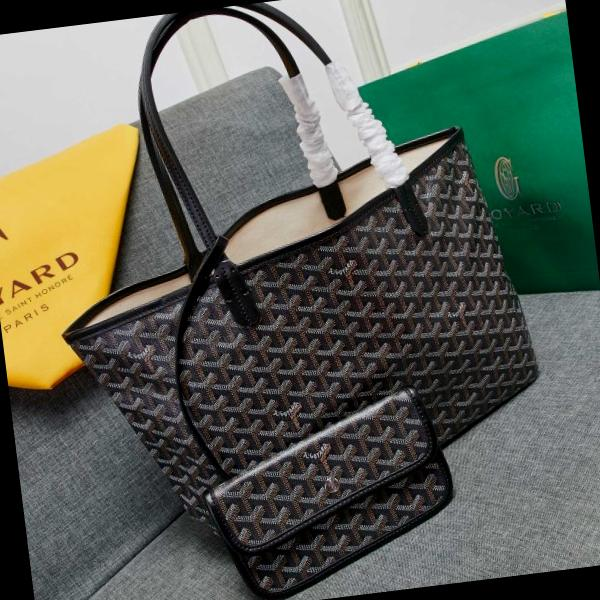GOYARD: (51, 131, 555, 548), (202, 386, 455, 598)
